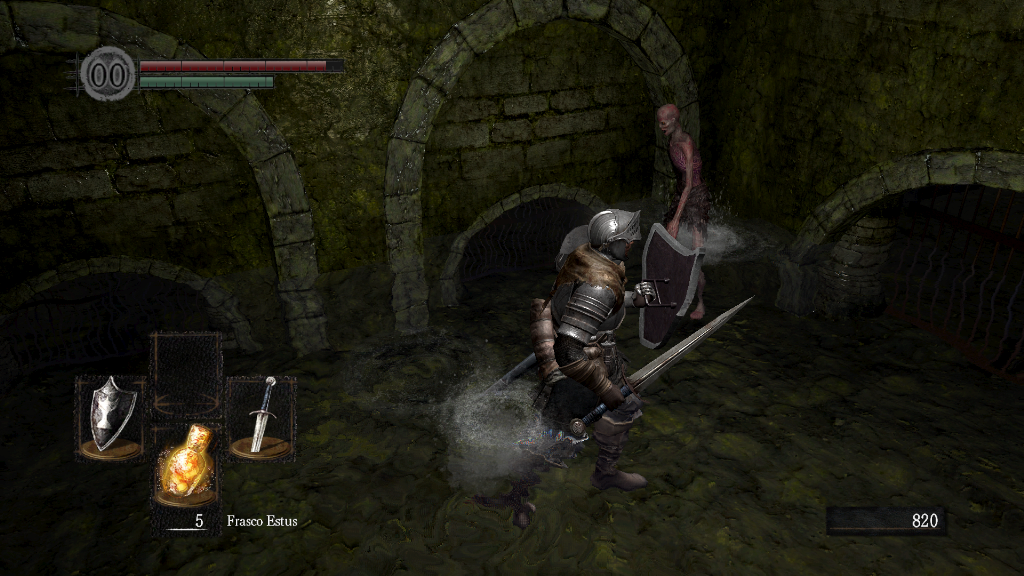health: (138, 58, 343, 71)
hollow: (649, 104, 706, 321)
humanity: (80, 45, 136, 102)
player: (470, 208, 758, 528)
souls: (825, 506, 945, 536)
stamina: (138, 74, 274, 88)
